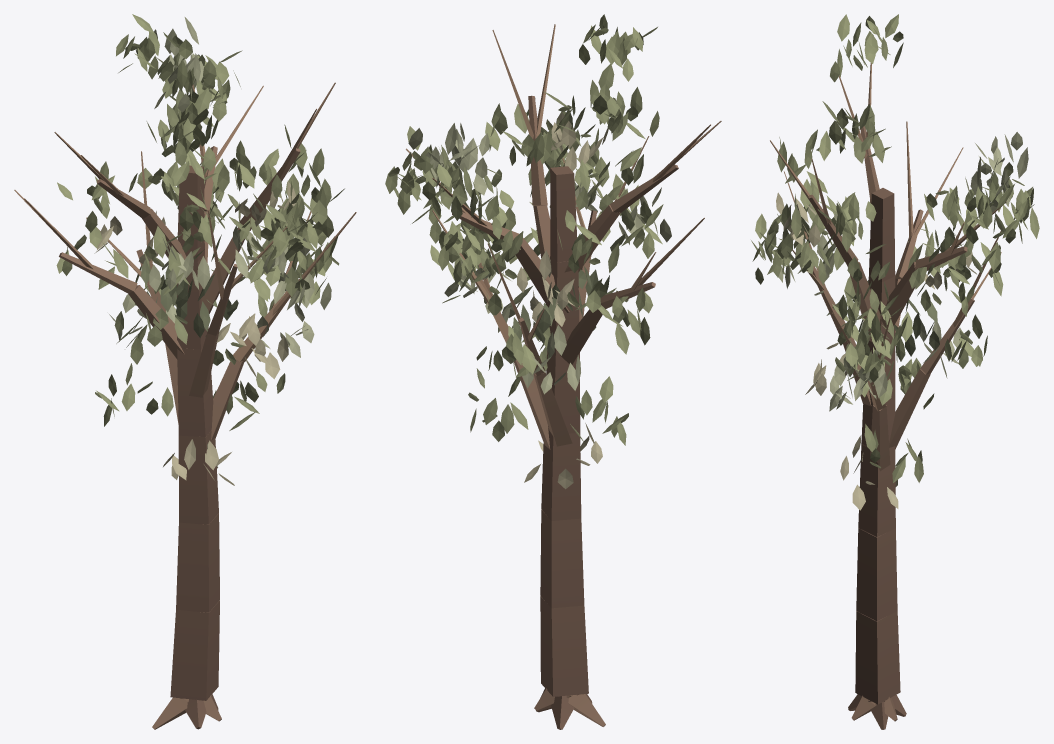
The model's file is tree_3d_02.glb.
3 renders of one model, left to right at view 1: azimuth 30°, elevation 25°; view 2: azimuth 150°, elevation 25°; view 3: azimuth 270°, elevation 25°, orthographic. The views are drawn at different scales.
Visible parts, largest first — view 1: tree_3d_02_foliage, tree_3d_02_wood; view 2: tree_3d_02_foliage, tree_3d_02_wood; view 3: tree_3d_02_foliage, tree_3d_02_wood.
Boxes of the visible parts, x1,y1,x2,y2 form: tree_3d_02_foliage: (56, 14, 344, 485); tree_3d_02_wood: (14, 82, 356, 729); tree_3d_02_foliage: (385, 14, 671, 489); tree_3d_02_wood: (406, 24, 721, 729); tree_3d_02_foliage: (751, 14, 1039, 510); tree_3d_02_wood: (770, 63, 1006, 729).
Size of the model in its own units: 5.4 by 12.5 by 4.8.
